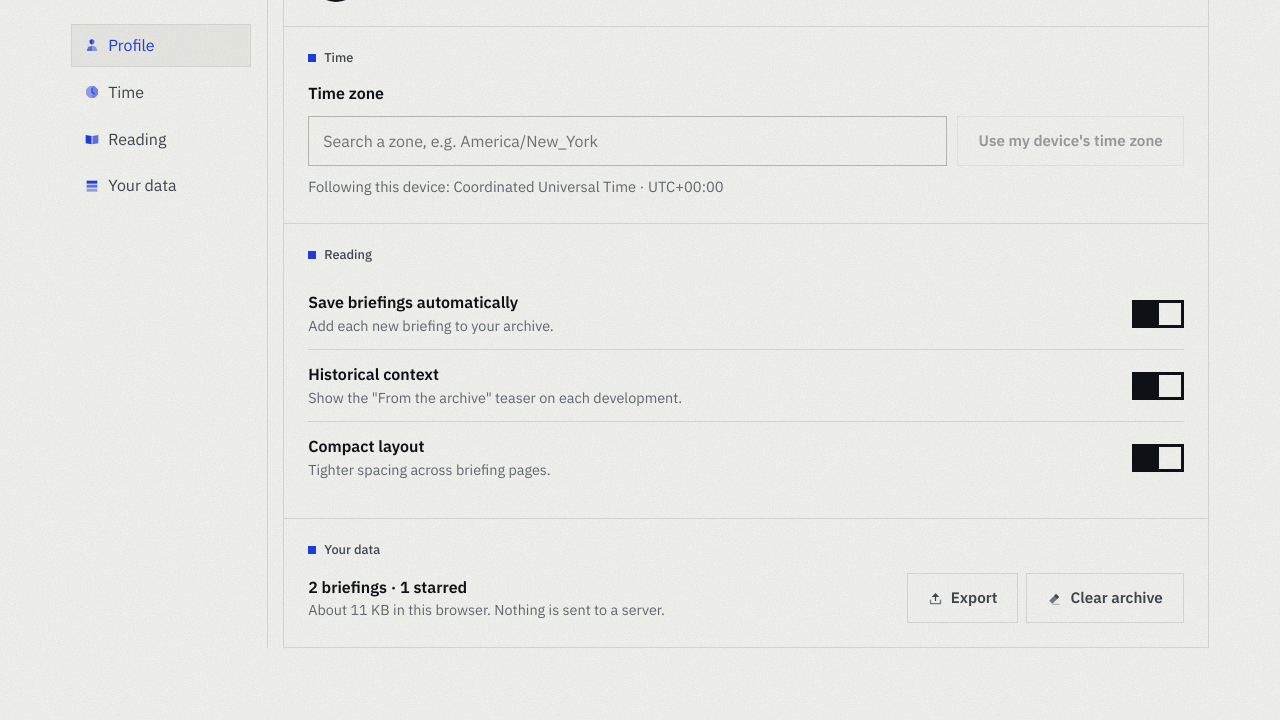
Test: SettingsPage › clears the archive only after confirming, keeping settings
The width and height of the screenshot is (1280, 720).
(page scrolled)
What coordinates should you click on to do the following:
click the button "Clear archive"
I would click on:
 (1105, 598)
Its box is [1026, 573, 1184, 623].
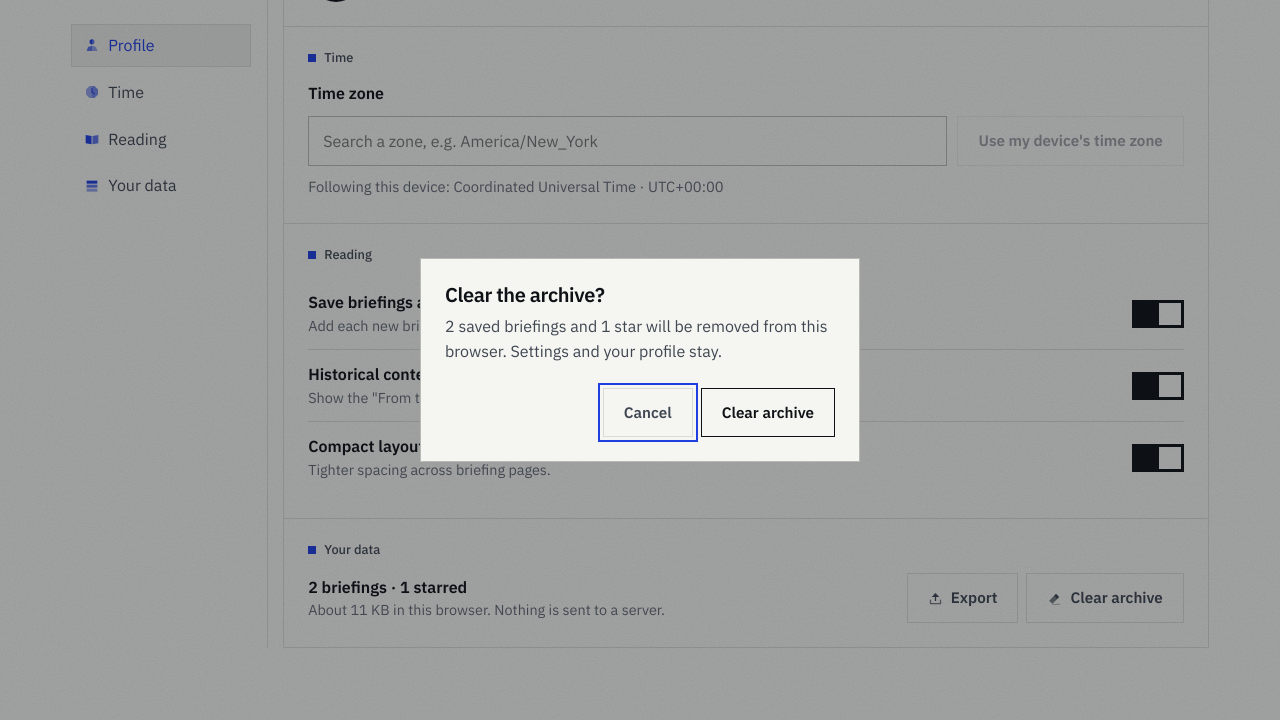
What coordinates should you click on to do the following:
click the button "Cancel"
I would click on:
 (648, 412)
Its box is [603, 388, 693, 437].
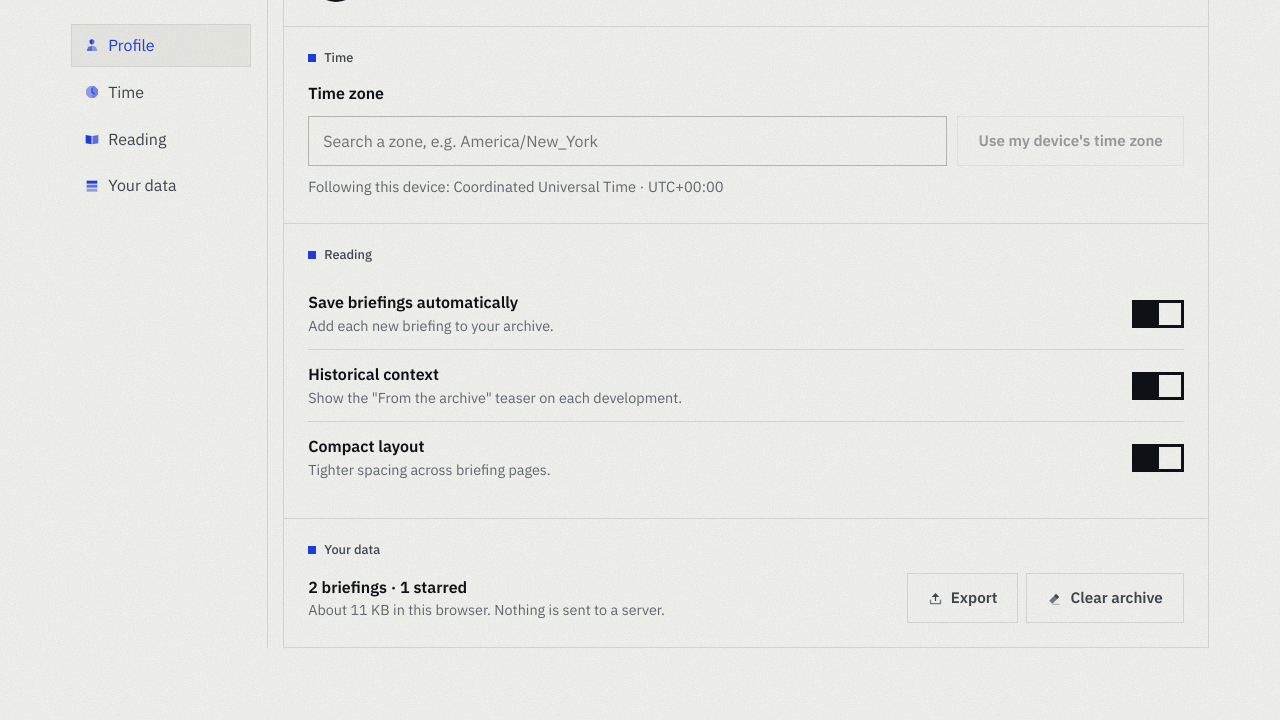
Expected: the element with id "data" shows "2 briefings", [308, 576, 387, 596]
What coordinates should you click on to do the following:
click the button "Clear archive"
I would click on:
 (1105, 598)
Its box is [1026, 573, 1184, 623].
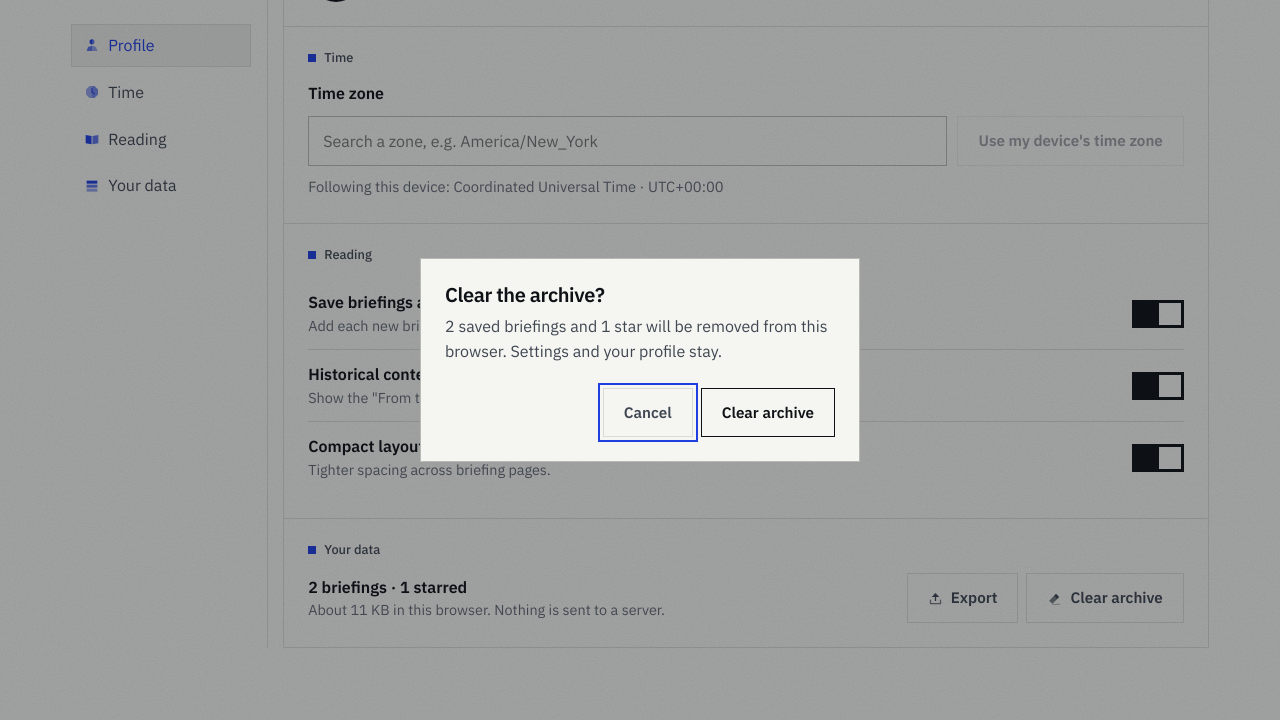
What coordinates should you click on to do the following:
click the button "Clear archive"
I would click on:
 (768, 412)
Its box is [701, 388, 835, 437].
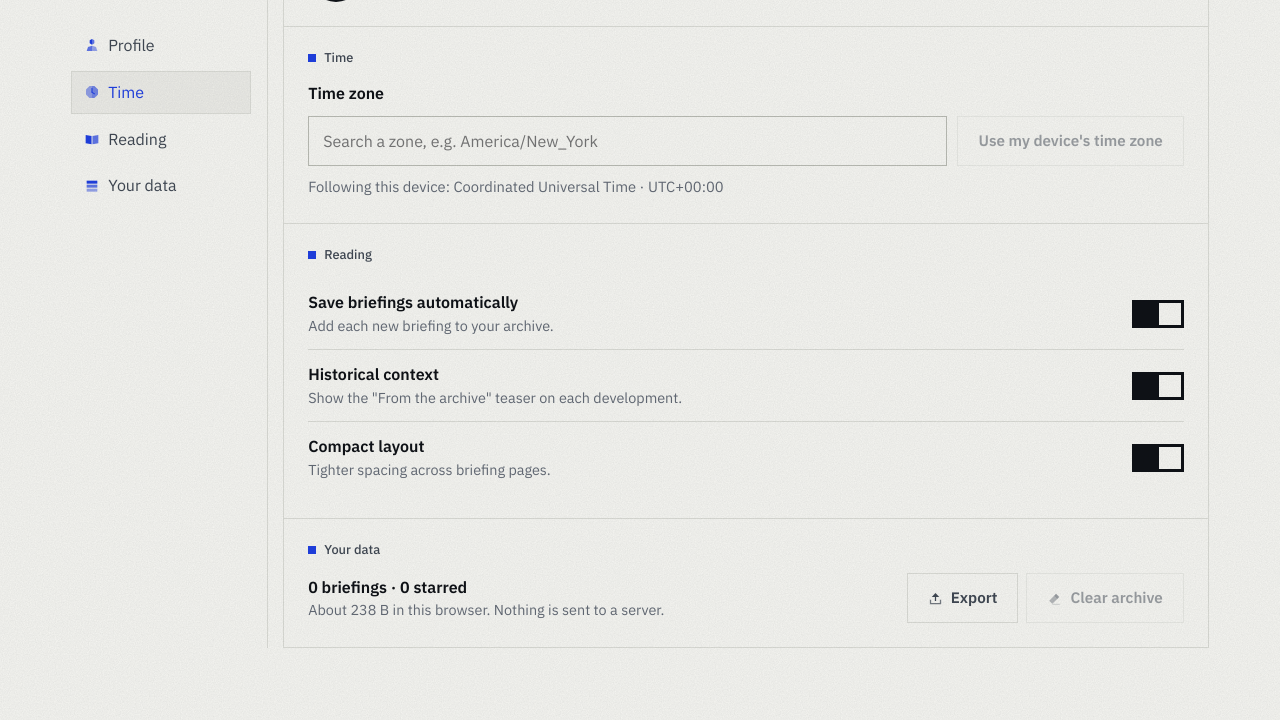
Result: the element with id "data" shows "0 briefings · 0 starred" at [283, 519, 1209, 648]
